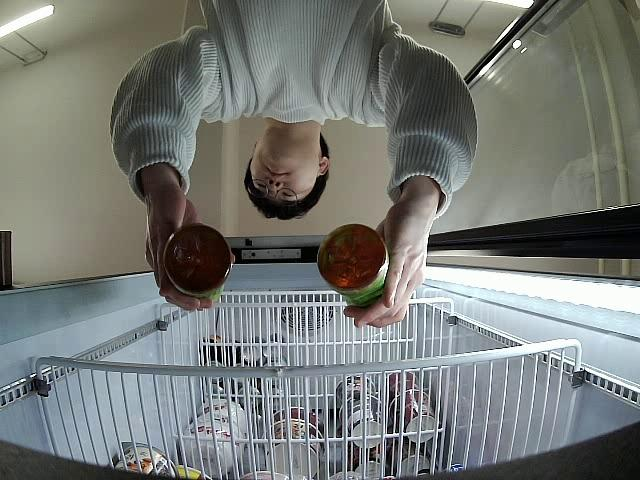00_hand: (344, 199, 426, 327), (145, 193, 215, 311)
19_17cha: (316, 224, 389, 307), (164, 223, 234, 297)
